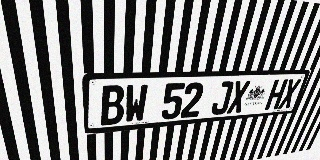2: (180, 82, 205, 118)
5: (161, 83, 185, 120)
B: (100, 85, 125, 126)
H: (264, 79, 288, 110)
J: (210, 81, 234, 115)
W: (124, 84, 148, 123)
X: (226, 80, 251, 114), (278, 79, 302, 109)
